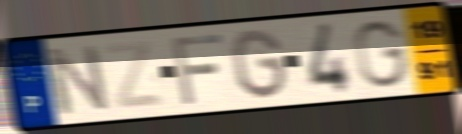4: (306, 20, 351, 96)
F: (169, 31, 226, 107)
G: (229, 27, 291, 103), (351, 18, 412, 91)
N: (42, 43, 113, 117)
Z: (100, 38, 168, 113)
